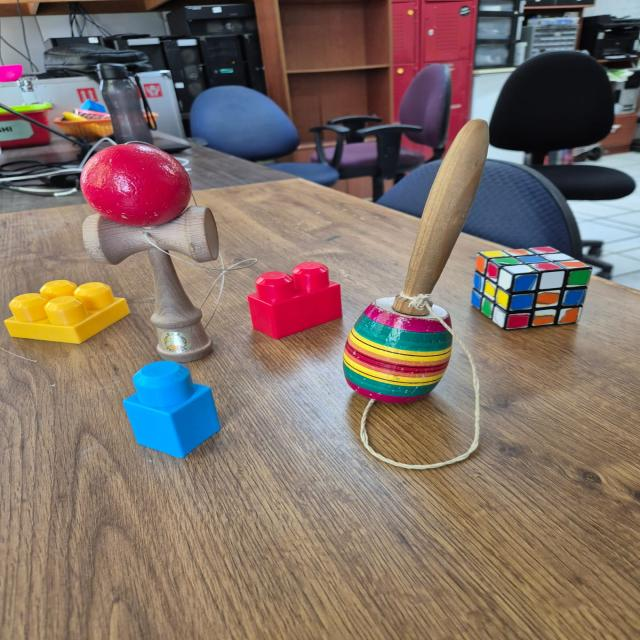balero: (337, 130, 483, 462)
balero ball: (79, 144, 257, 365)
lego 2: (245, 260, 344, 338)
lego 4: (4, 282, 132, 346)
lego_1: (121, 361, 220, 458)
rubick: (472, 246, 590, 327)
